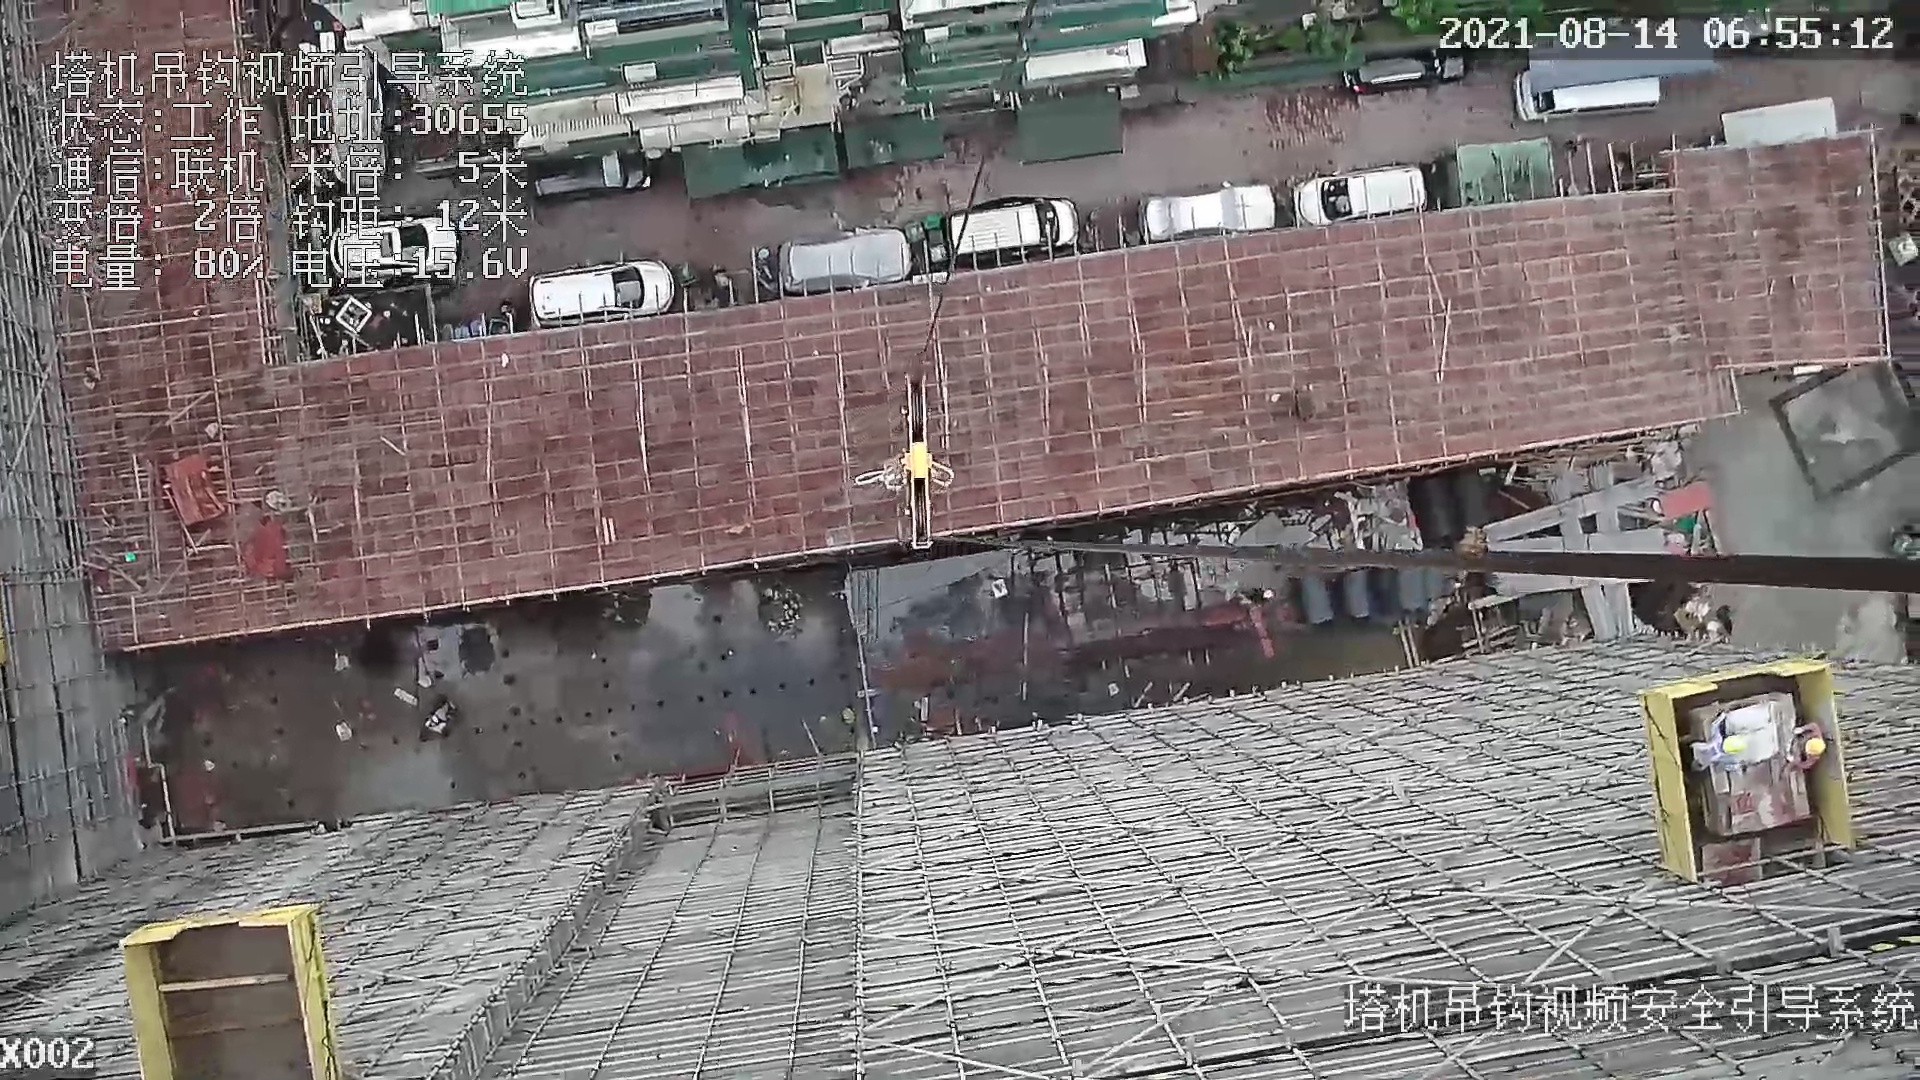board: (1685, 696, 1812, 834)
helmet: (1722, 735, 1745, 754), (1805, 738, 1824, 755)
hook: (897, 371, 958, 550)
person: (1678, 734, 1745, 771), (1786, 723, 1824, 771)
rebar: (1484, 474, 1657, 539), (1487, 528, 1661, 552), (1490, 575, 1657, 597), (1576, 588, 1624, 638), (1602, 588, 1638, 632)
